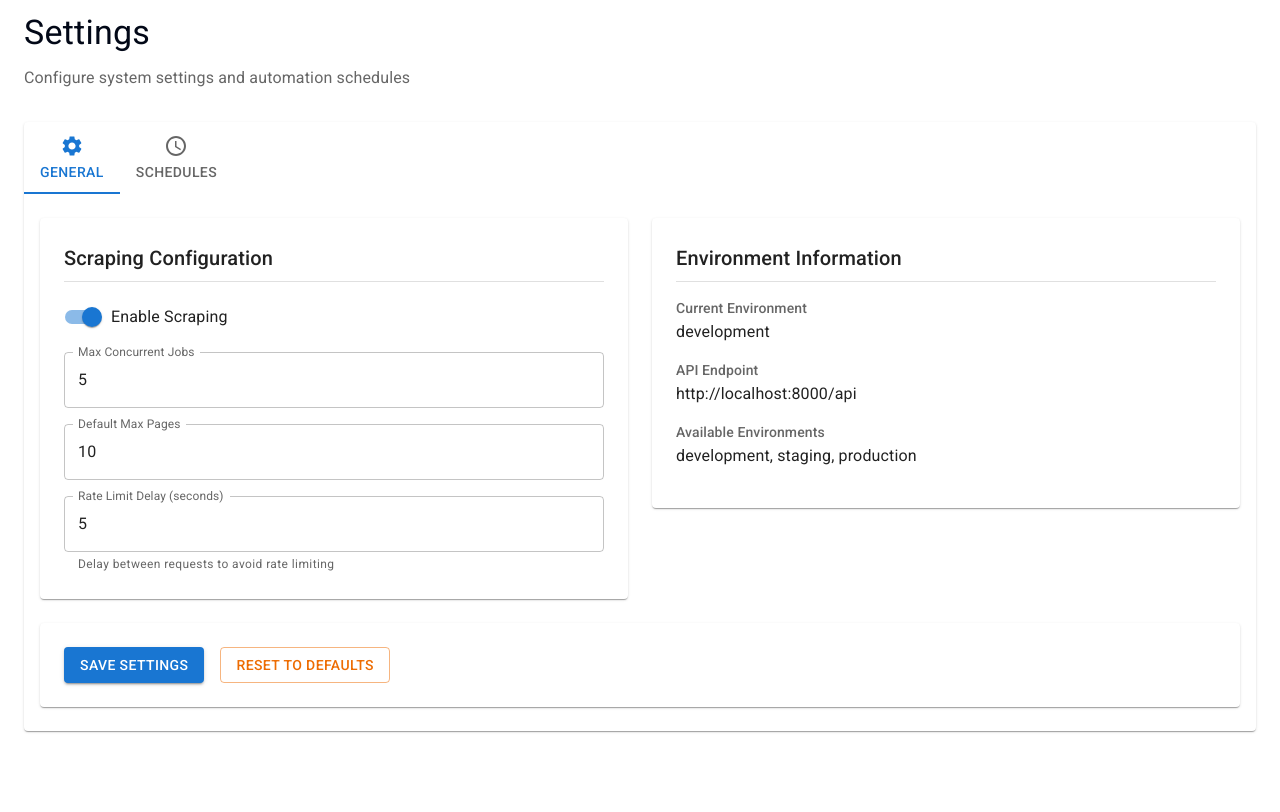
Test: Settings Page › General Settings Tab › should show success message after saving
Click the button "Save Settings": (134, 665) [64,647,204,683]
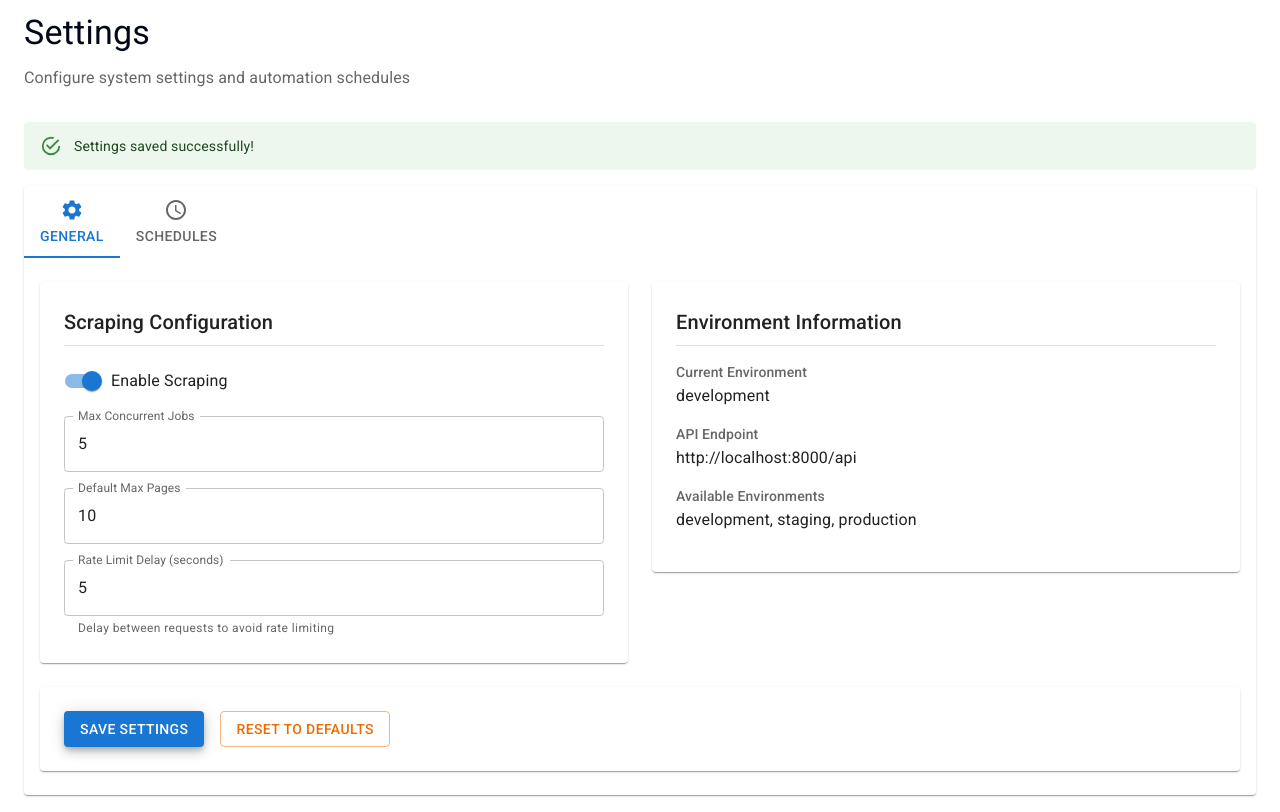
Now the text "Settings saved successfully!" is shown, box [74,138,254,154]
